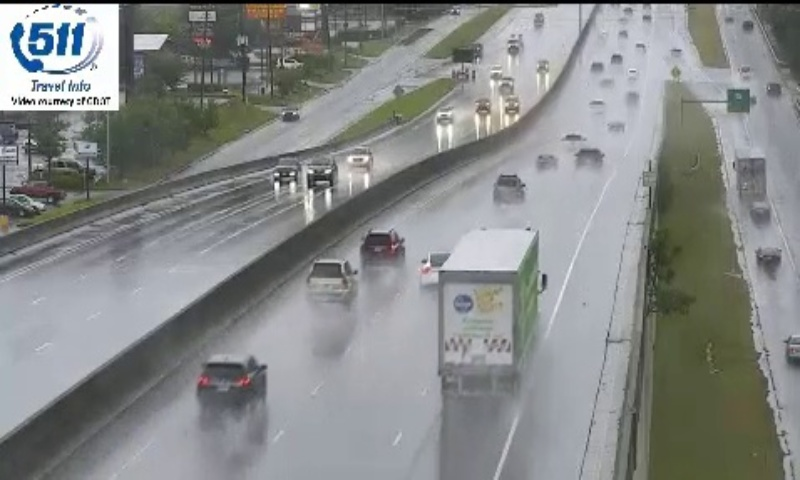car: (197, 354, 269, 409), (304, 259, 358, 302), (359, 230, 405, 264), (420, 251, 456, 287), (492, 173, 523, 203), (575, 148, 604, 169)
small-truck: (438, 224, 540, 394)
